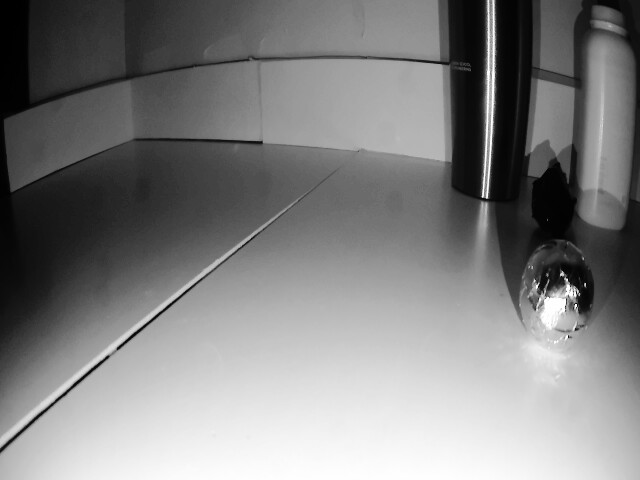black: (515, 233, 592, 346)
silver: (535, 164, 569, 227)
